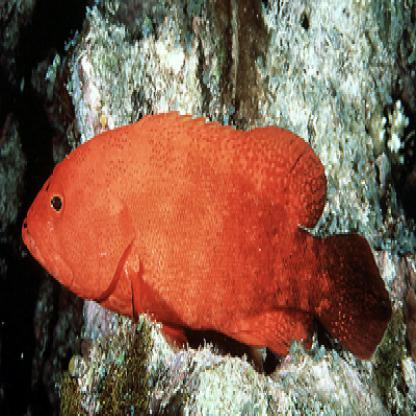Serranidae -Groupers-: (16, 108, 397, 388)
